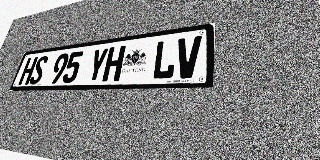5: (61, 51, 84, 83)
9: (48, 53, 70, 84)
H: (102, 45, 126, 82), (18, 57, 38, 85)
L: (151, 39, 178, 80)
S: (28, 55, 49, 85)
V: (174, 35, 202, 79)
Y: (85, 48, 109, 82)
